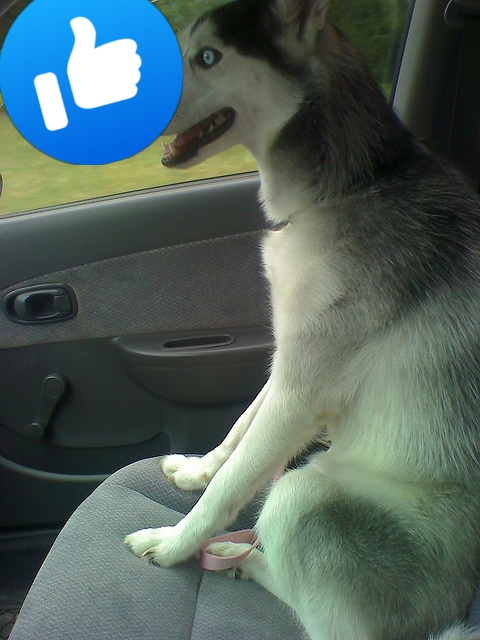like: (0, 0, 183, 165)
